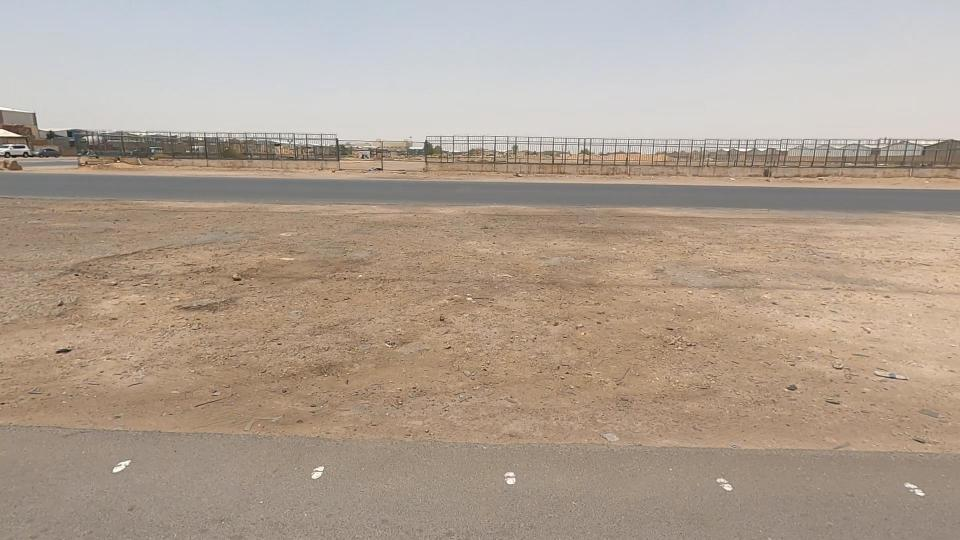CONSTRUCTION_ROAD: (319, 84, 960, 540), (0, 103, 612, 482)
